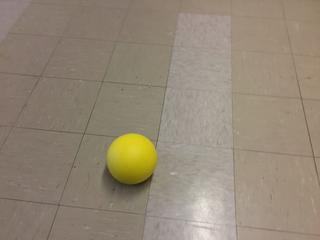power_cell: (104, 130, 161, 188)
